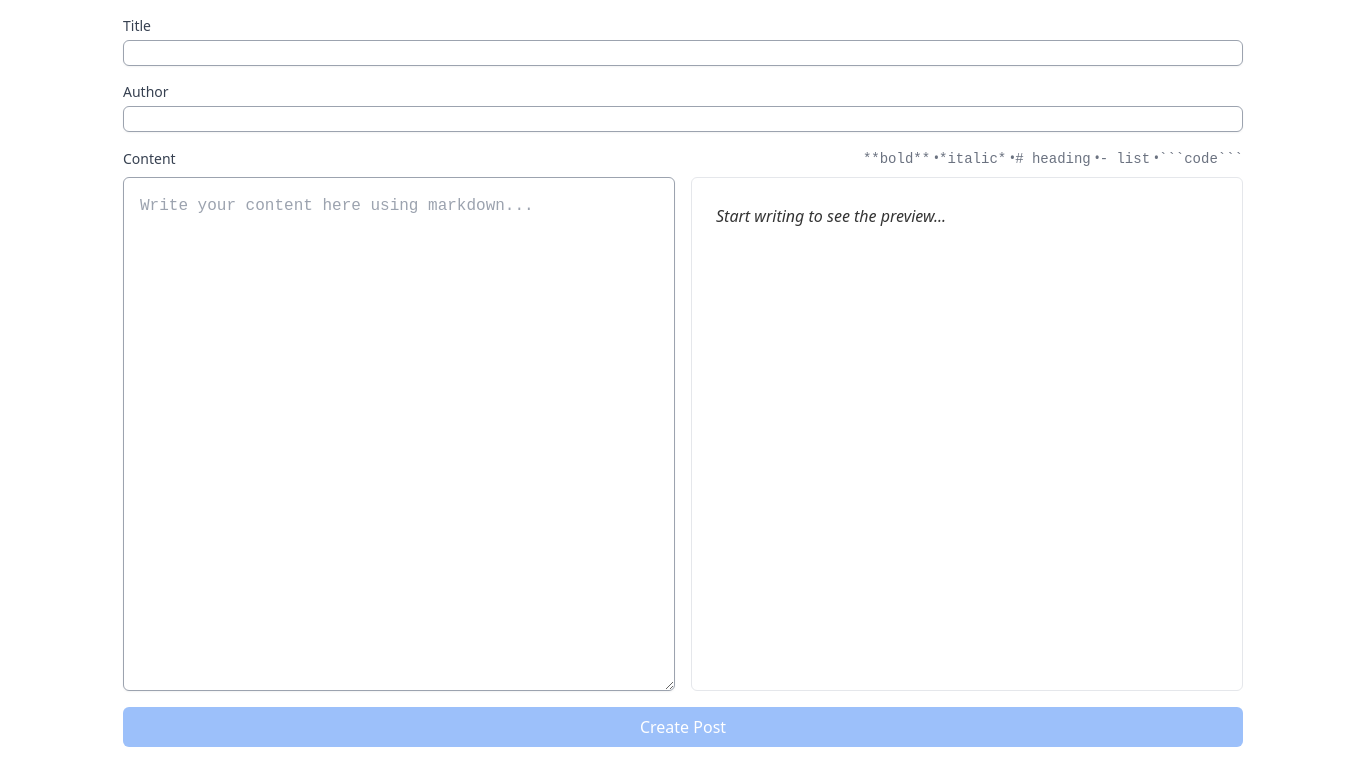
Test case: PostForm › shows live markdown preview
Type "**bold**" into the text box labelled "Content" at (399, 434), box [123,177,675,691]
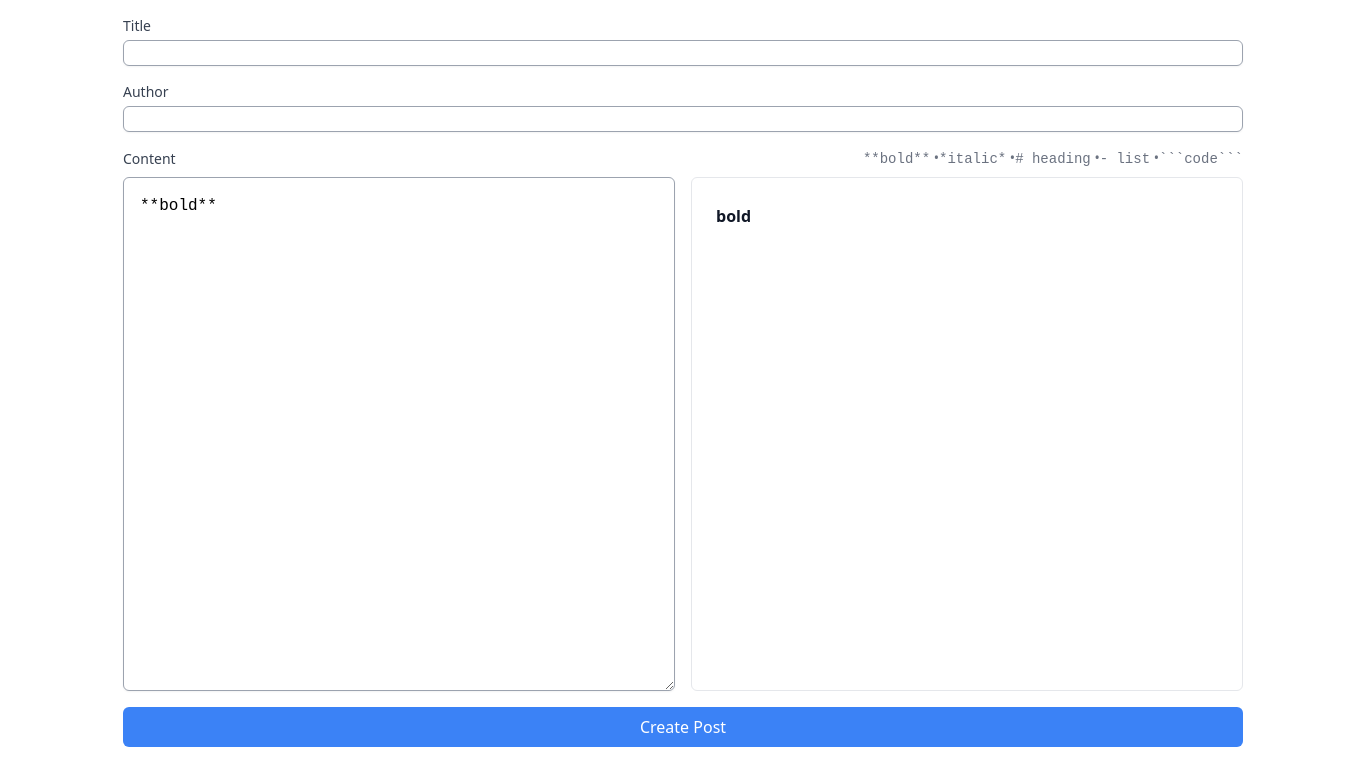
Now the text "bold" is shown, box [716,205,751,227]
